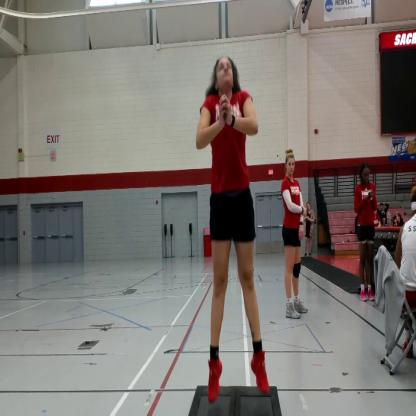lateral_flexion_normal: (191, 53, 277, 416)
stance_width_normal: (192, 88, 272, 416)
